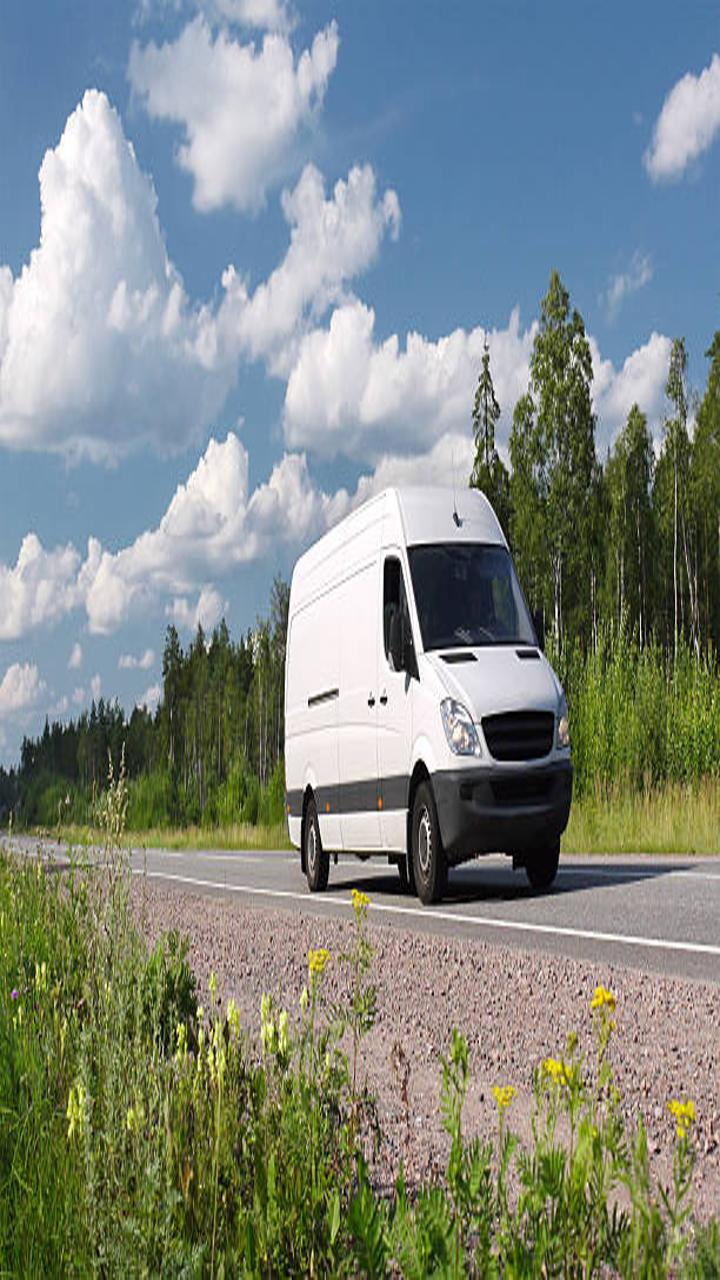Traffic sign: (251, 483, 618, 925)
